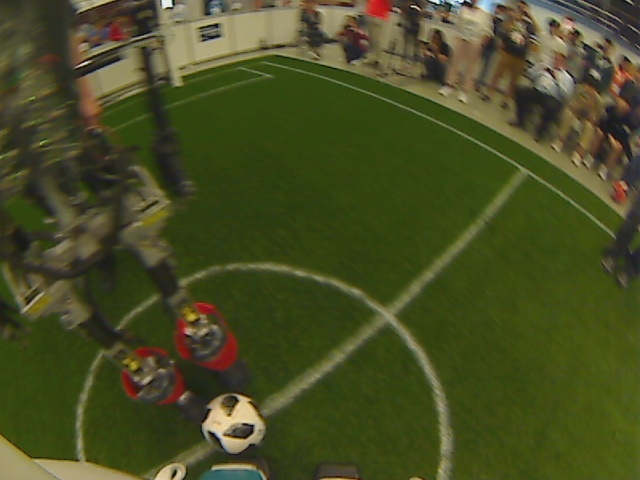ball: (200, 390, 269, 457)
